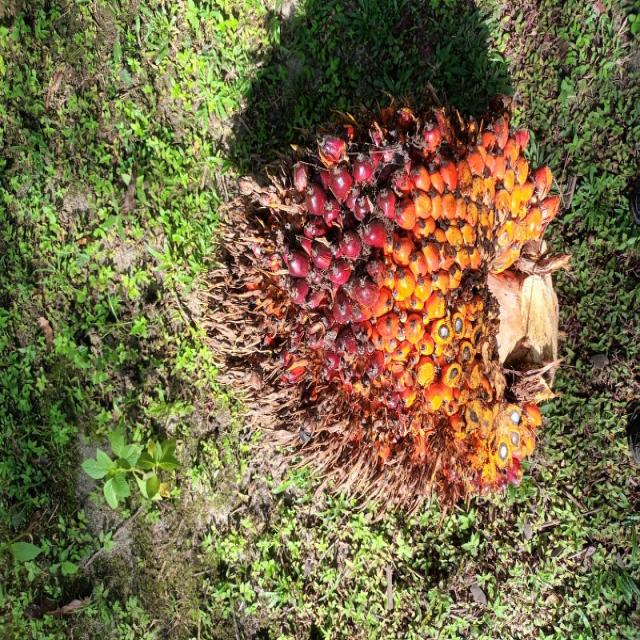fraksi 1: (75, 237, 450, 640)
